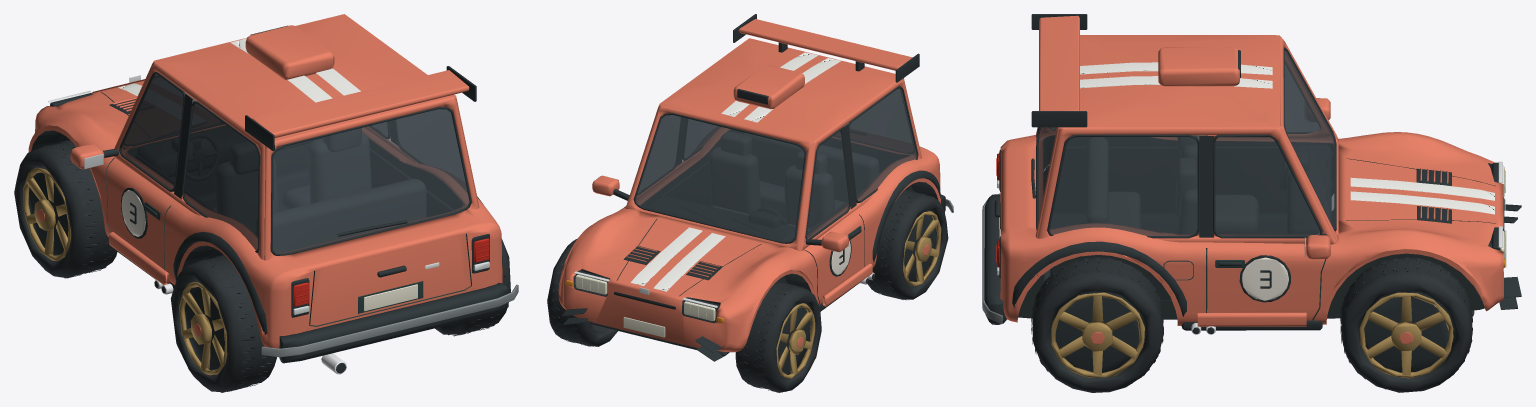
Rendered from kaminari_lod2.fbx.
The picture shows the model from 3 angles, left to right: view 1: azimuth 30°, elevation 25°; view 2: azimuth 150°, elevation 25°; view 3: azimuth 270°, elevation 25°; orthographic projection. The views are drawn at different scales.
Parts seen in each view (by area): view 1: Body, Wheel_RL_Mesh, Wheel_FL_Mesh, Wheel_RR_Mesh; view 2: Body, Wheel_FL_Mesh, Wheel_RL_Mesh, Wheel_FR_Mesh; view 3: Body, Wheel_FR_Mesh, Wheel_RR_Mesh.
Boxes of the visible parts, x1,y1,x2,y2 form: Body: (28,14,518,374); Wheel_RL_Mesh: (170,255,276,392); Wheel_FL_Mesh: (14,140,117,278); Wheel_RR_Mesh: (435,238,510,336); Body: (558,14,953,361); Wheel_FL_Mesh: (735,281,821,392); Wheel_RL_Mesh: (867,189,948,300); Wheel_FR_Mesh: (547,238,617,346); Body: (982,14,1521,334); Wheel_FR_Mesh: (1340,257,1472,392); Wheel_RR_Mesh: (1031,257,1163,392).
Bounding box in the file's own units: 240 × 204 × 367.
